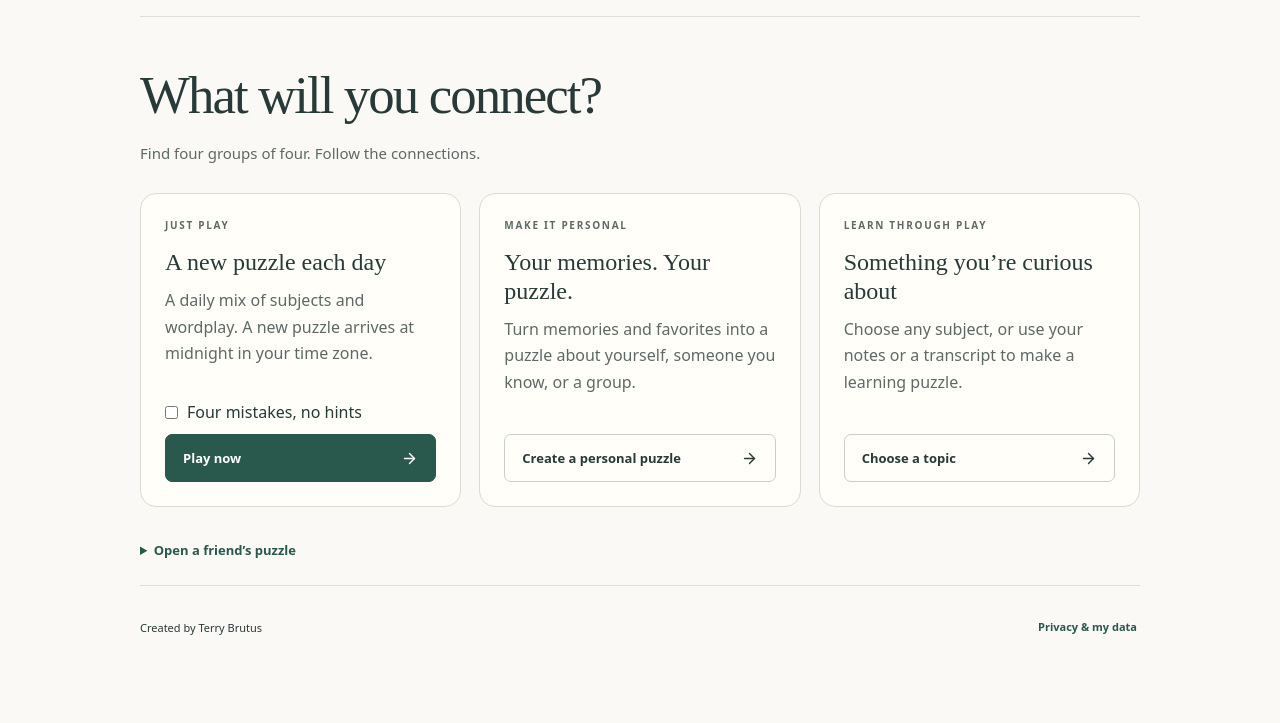
Test: personal creator and friend challenges › opens directly on the story and generates without selecting interests
This screenshot has width=1280, height=723.
Click the button "Create a personal puzzle" at (640, 458), box [504, 434, 776, 482]
(page scrolled)
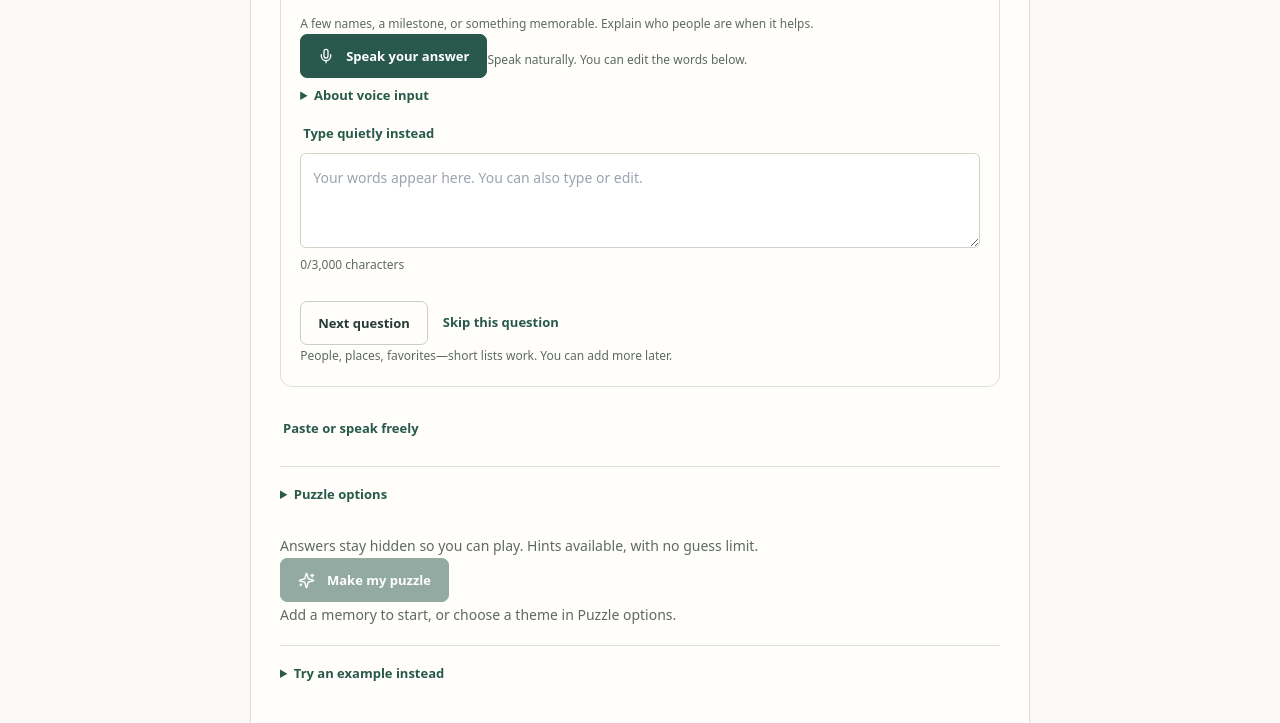
Click the button "Skip this question" at (501, 323), box [440, 303, 562, 343]
(page scrolled)
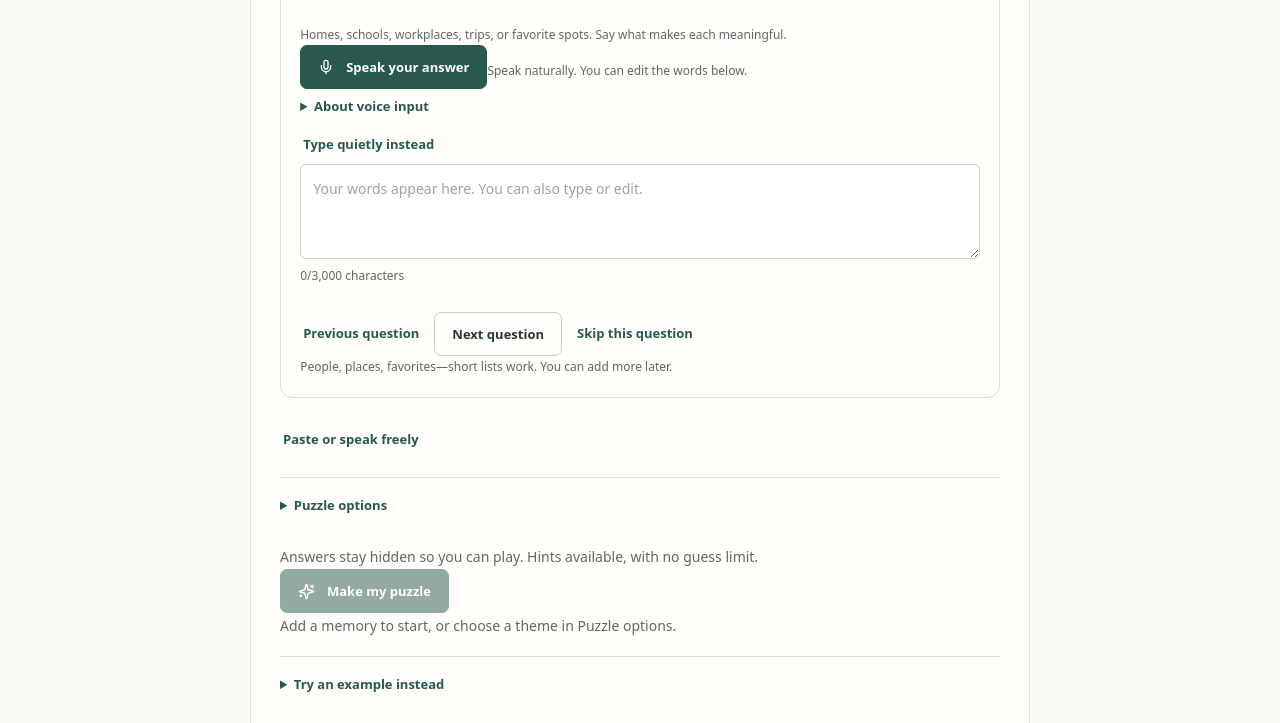
Type "We both lived by the river." into the text box labelled "Which places matter to you, and why?" at (640, 212), box [300, 164, 980, 260]
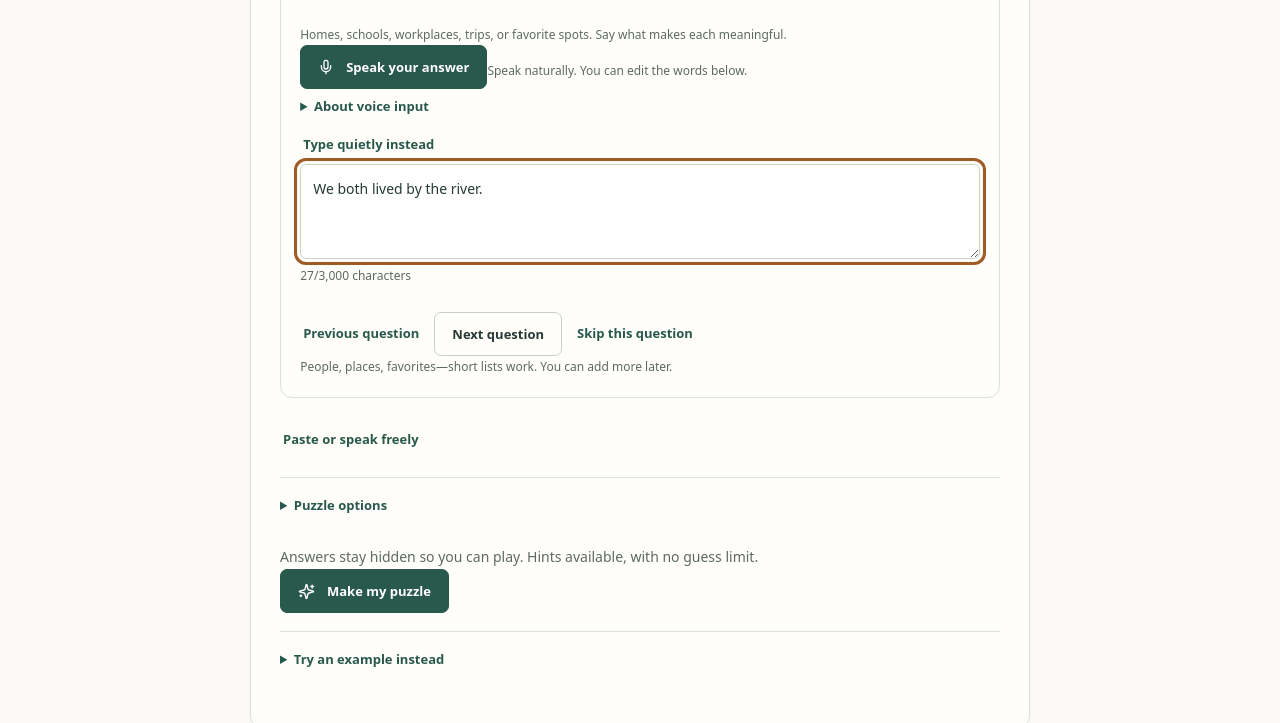
Result: the button "Make my puzzle" is enabled
Click the button "Make my puzzle" at (364, 591), box [280, 569, 449, 613]
(page scrolled)
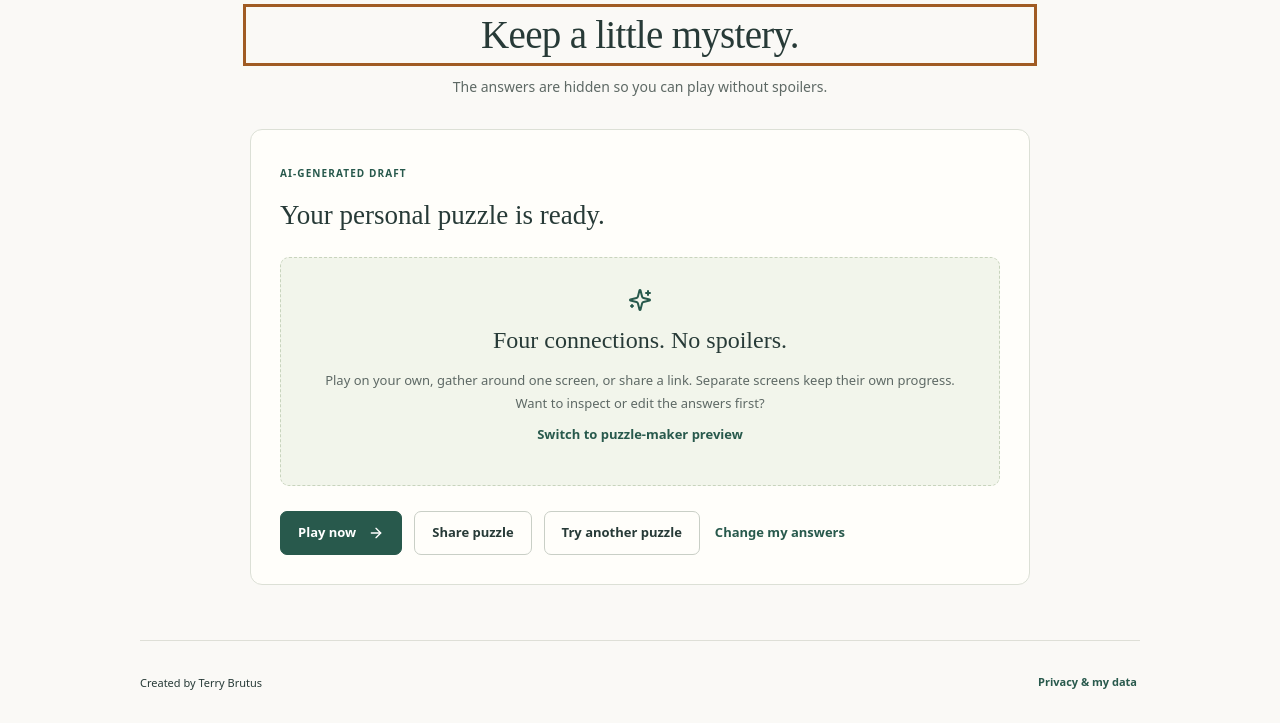
Result: the heading "Four connections. No spoilers." is shown at [493, 326, 787, 352]
